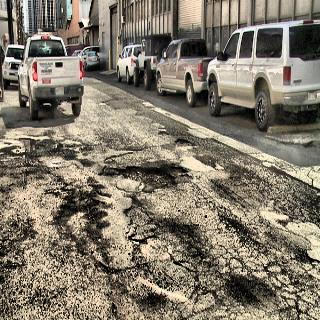alligator-crack: (256, 255, 314, 320)
crack: (120, 213, 168, 253), (214, 251, 247, 286), (173, 256, 203, 290)
pothole: (99, 154, 190, 198), (176, 132, 194, 148), (156, 126, 170, 140)
